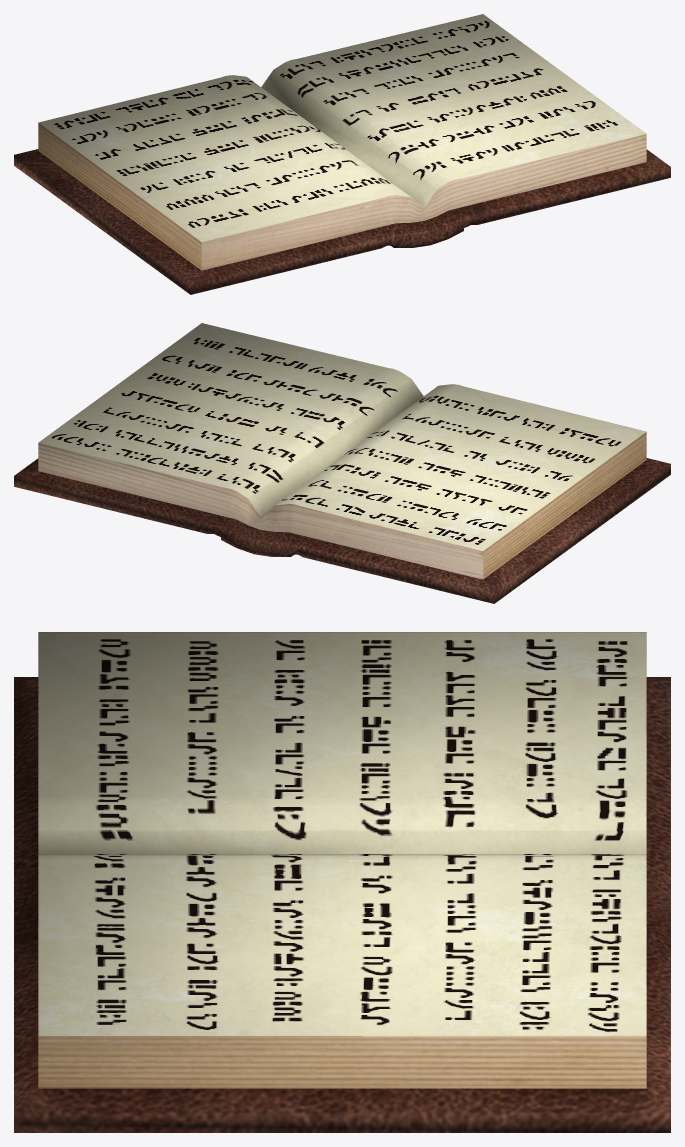
File: Bookglb.glb
The picture shows the model from 3 angles, top to bottom: view 1: azimuth 30°, elevation 25°; view 2: azimuth 150°, elevation 25°; view 3: azimuth 270°, elevation 25°; orthographic projection. The views are drawn at different scales.
Visible parts, largest first — view 1: Book; view 2: Book; view 3: Book.
Boxes of the visible parts, x1,y1,x2,y2 form: Book: (14,14,670,294); Book: (14,323,670,603); Book: (14,632,670,1132).
Bounding box in the file's own units: 2.16 × 0.2291 × 1.38.
Materials: 1 (1 with a texture image).
